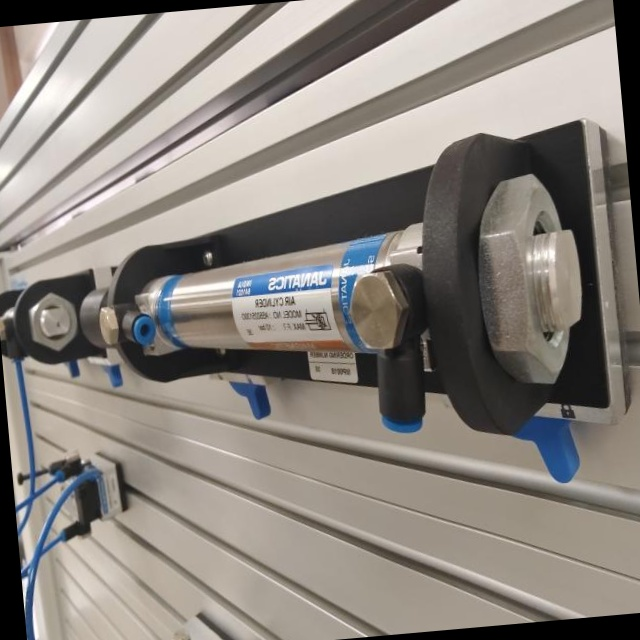double acting pneumatic cylinder: (59, 82, 633, 538)
